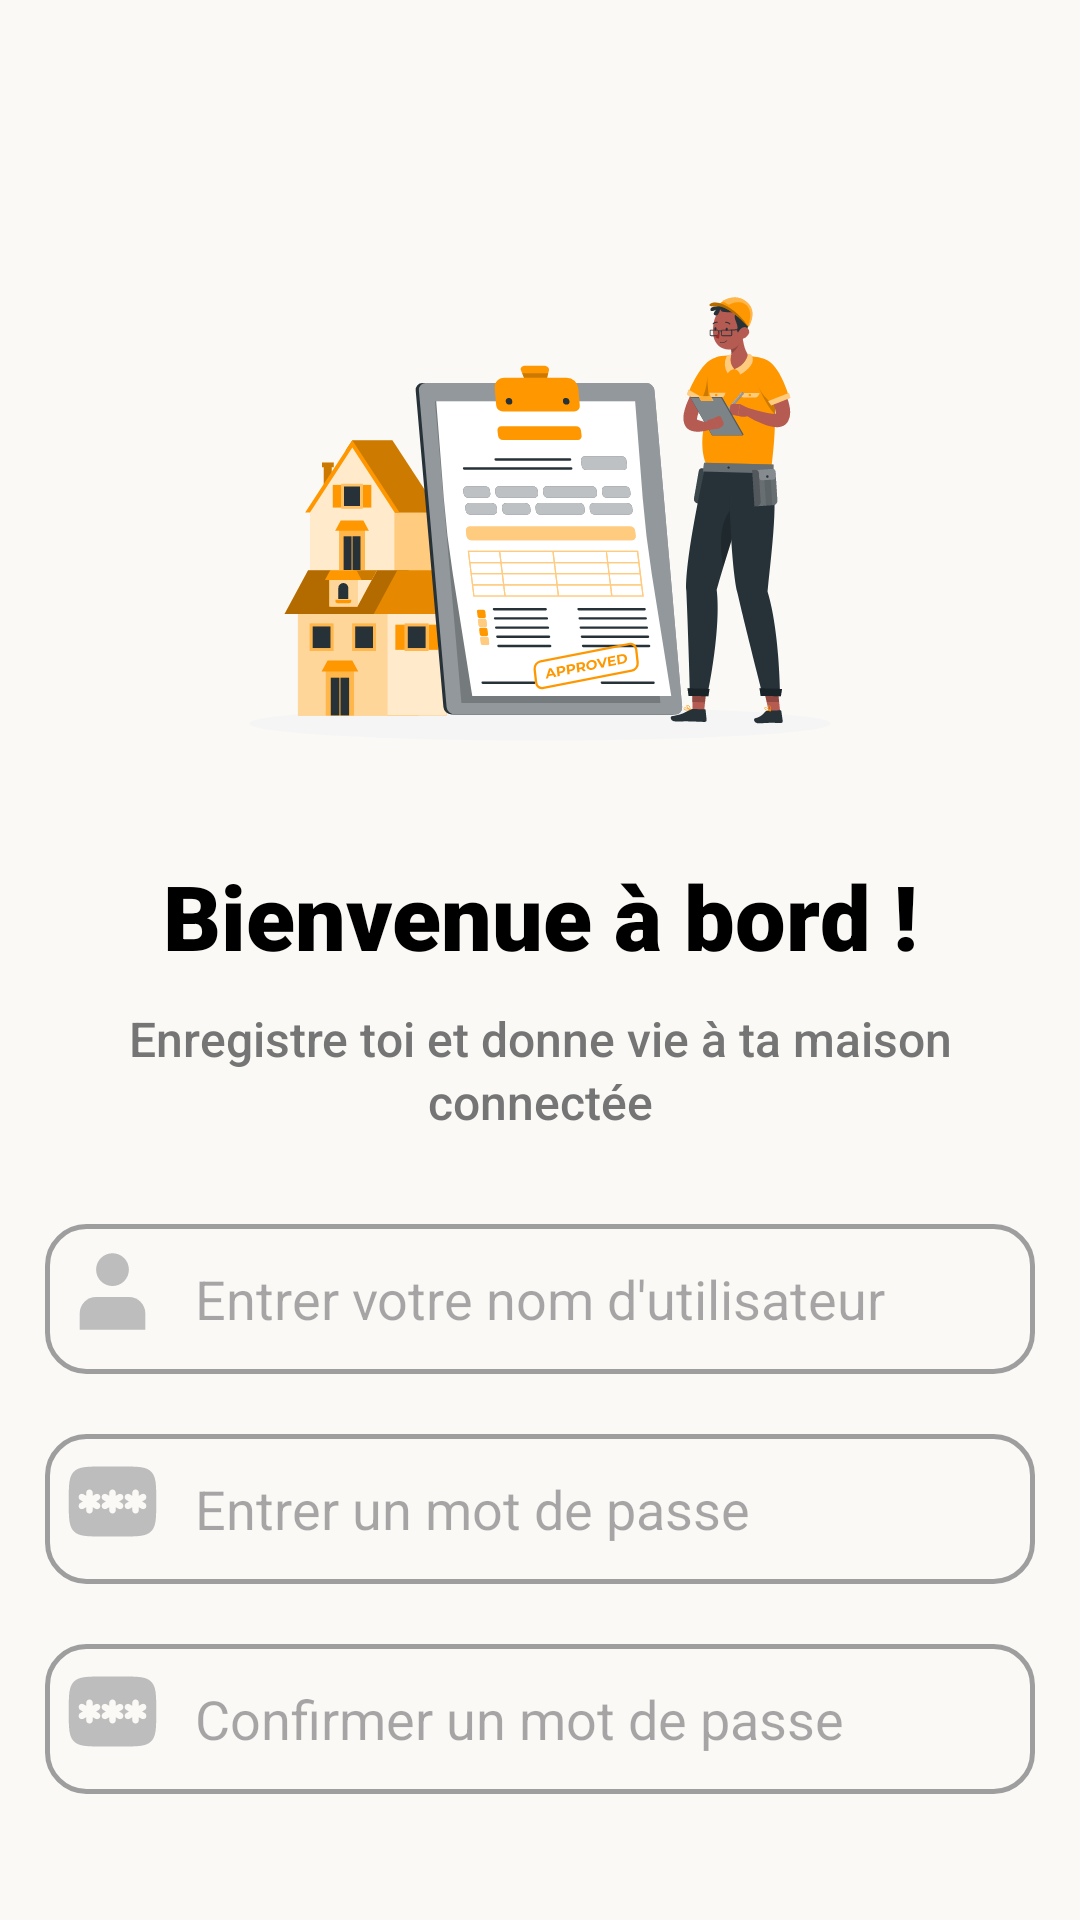

Where icons sit on this 1080x1920 app screen, as (x1, y1, x2, y2):
password: (69, 1466, 156, 1537), (69, 1676, 156, 1747)
user: (80, 1253, 145, 1330)
